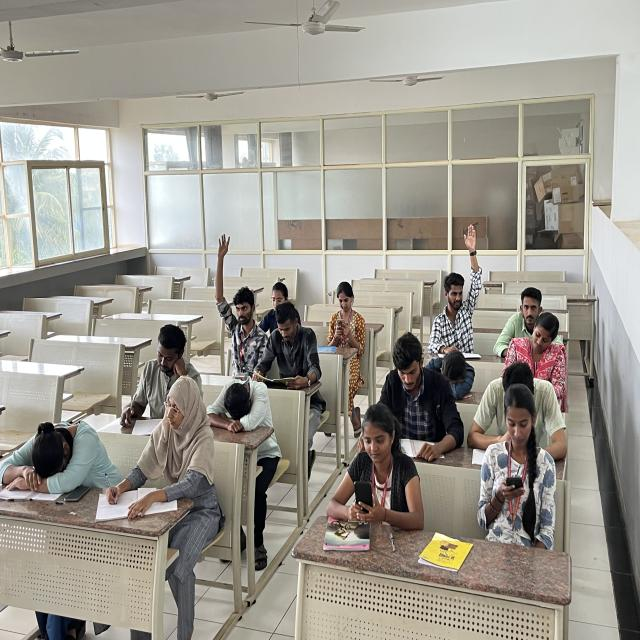Hand Rising: (213, 230, 269, 369), (427, 222, 487, 344)
Reading: (254, 302, 321, 390)
Sleeping: (0, 412, 109, 487), (210, 368, 279, 431), (427, 348, 481, 396)
Using Phone: (321, 410, 422, 534), (474, 380, 558, 528), (326, 278, 368, 353)
Writing: (105, 388, 217, 523), (112, 320, 204, 437)
